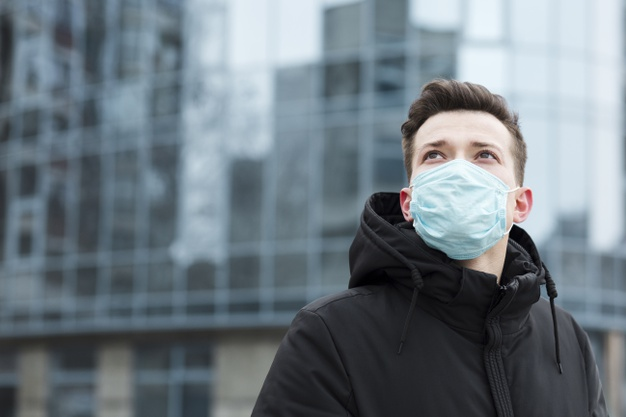surgical: (399, 156, 525, 260)
